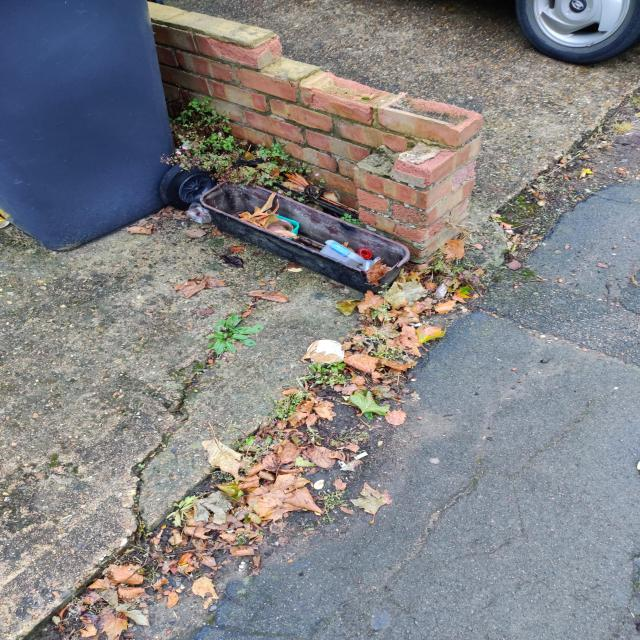litter: (319, 239, 365, 267), (308, 339, 345, 365), (265, 214, 299, 240), (358, 248, 372, 259)
